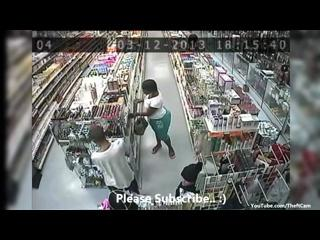Normal: (89, 121, 140, 195)
shoplifting: (133, 79, 176, 159)
